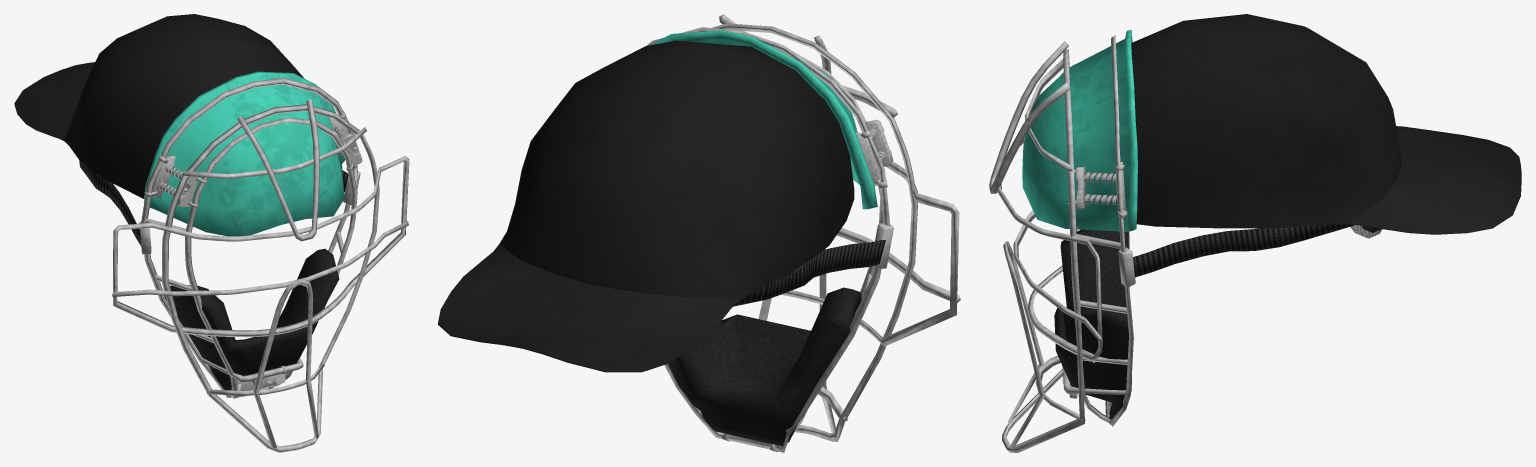
File: mask.glb
3 views of the same model, side by side, from view 1: azimuth 30°, elevation 25°; view 2: azimuth 150°, elevation 25°; view 3: azimuth 270°, elevation 25° (orthographic). The views are drawn at different scales.
Parts seen in each view (by area): view 1: Plane.017; view 2: Plane.017; view 3: Plane.017.
Boxes of the visible parts, left/top/right/bottom form: Plane.017: left=14, top=14, right=409, bottom=452; Plane.017: left=438, top=14, right=960, bottom=452; Plane.017: left=989, top=14, right=1521, bottom=452.
Size of the model in its own units: 2.56 by 2.87 by 3.32.
2 materials, 2 textured.
